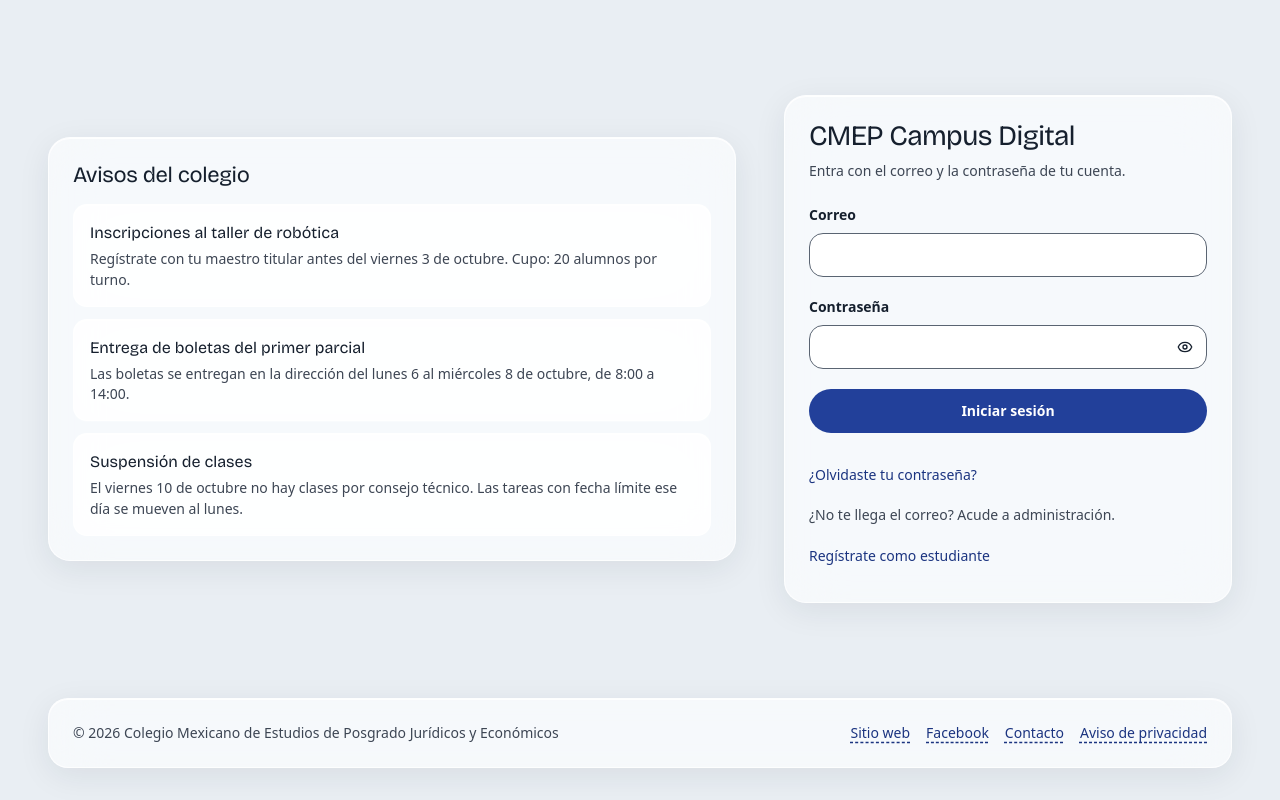
Scenario: ataque (AUTH-03a r1): el login y el registro salen de la caché (§D-A3) › login con 401 CREDENCIALES_INVALIDAS: alerta y la contraseña fuera de la caché
This screenshot has width=1280, height=800.
Check: the button "Iniciar sesión" is shown, box [809,389,1207,433]
Type "ana@ejemplo.mx" into the field labelled "Correo" at [1008, 255], box [809,233,1207,277]
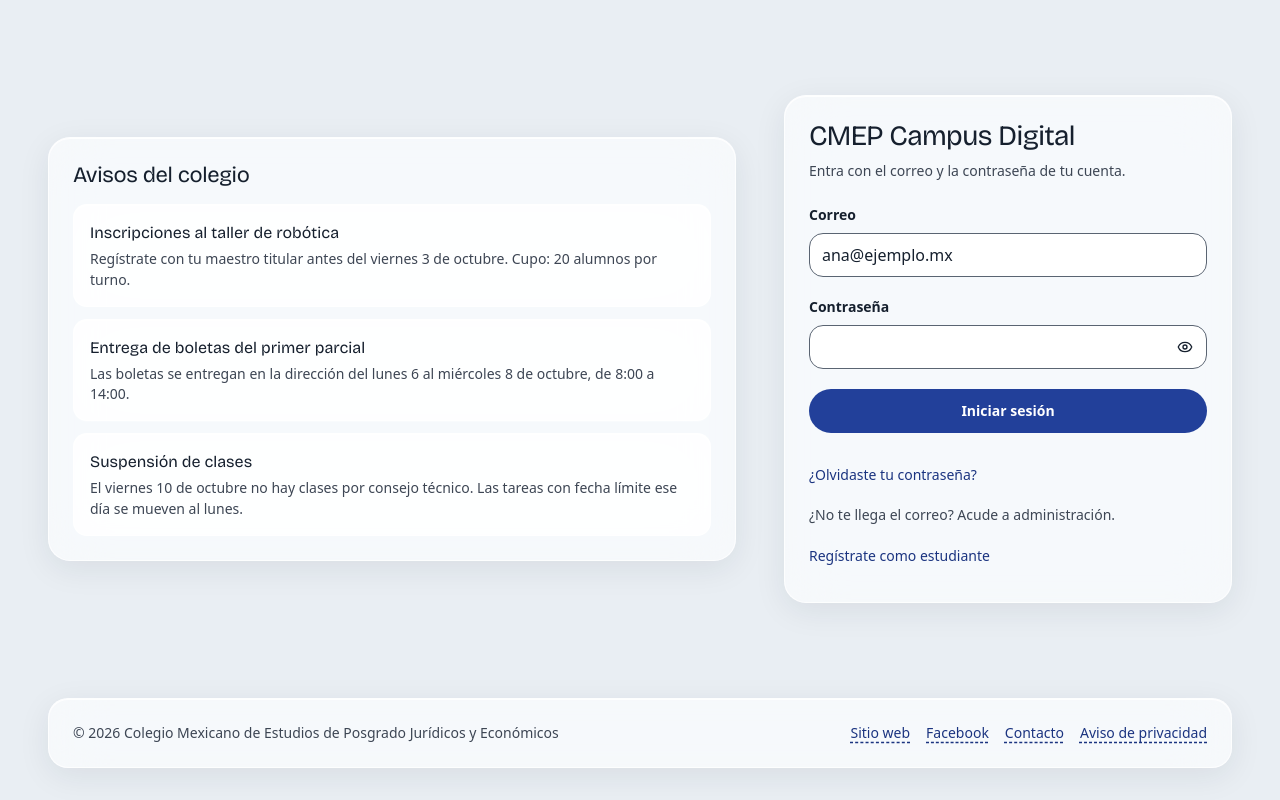
Type "mi-clave-propia-r1-03a" into the password field labelled "Contraseña" at [1008, 347], box [809,325,1207,369]
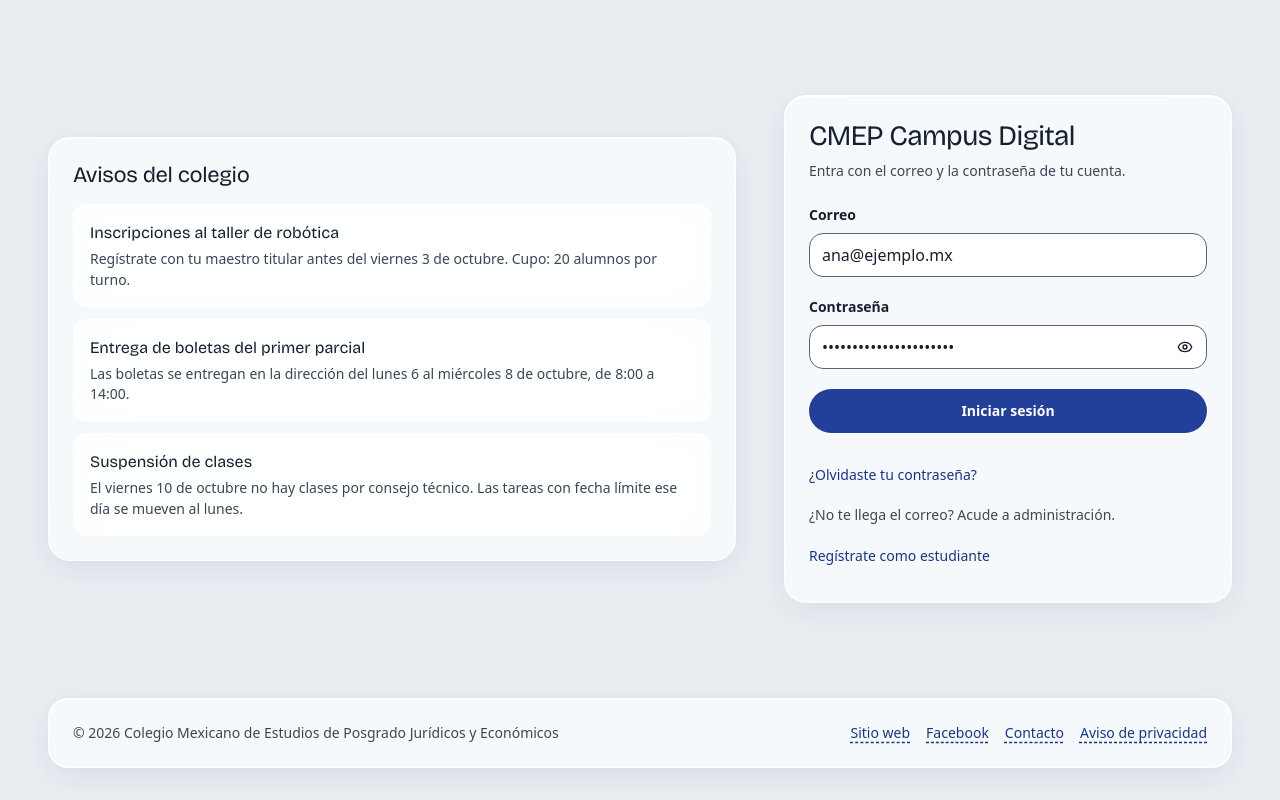
Click the button "Iniciar sesión" at [1008, 411], box [809,389,1207,433]
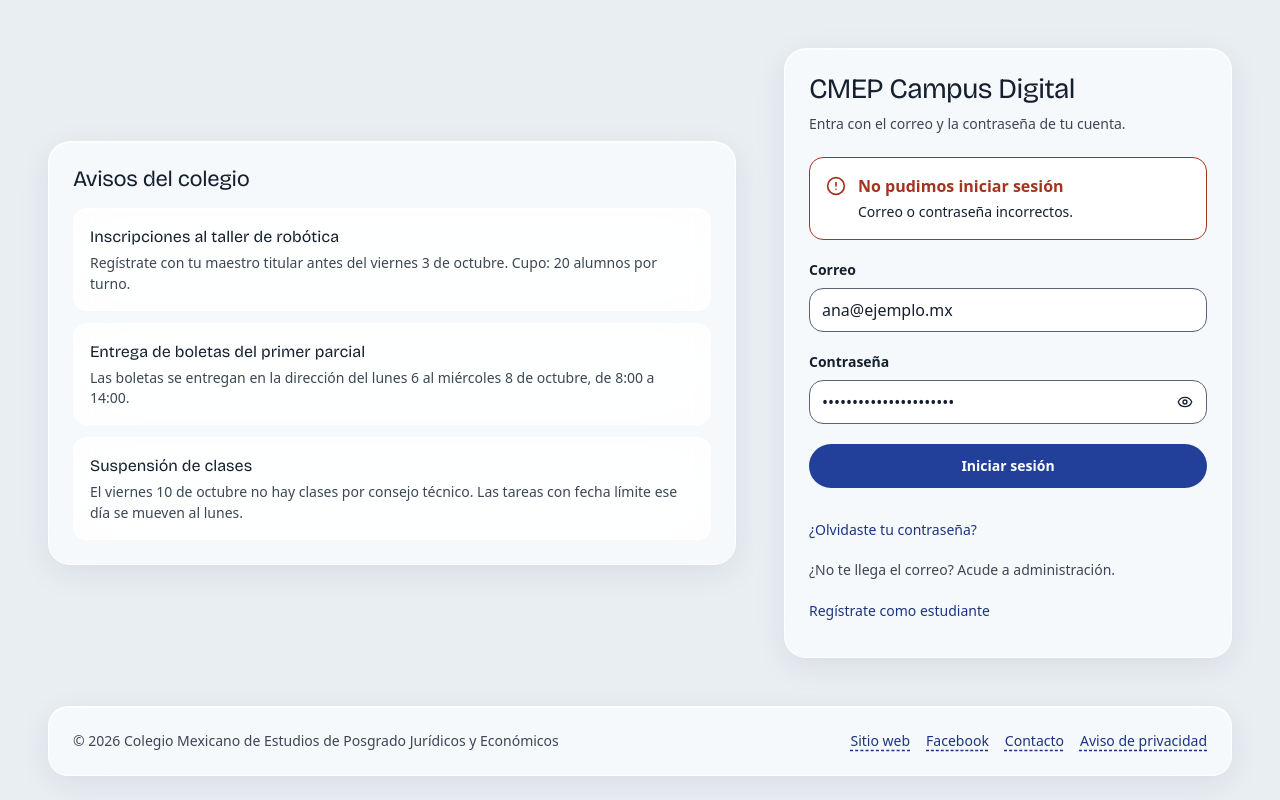
Check: the message "No pudimos iniciar sesión Correo o contraseña incorrectos." is shown, box [809,158,1207,240]
